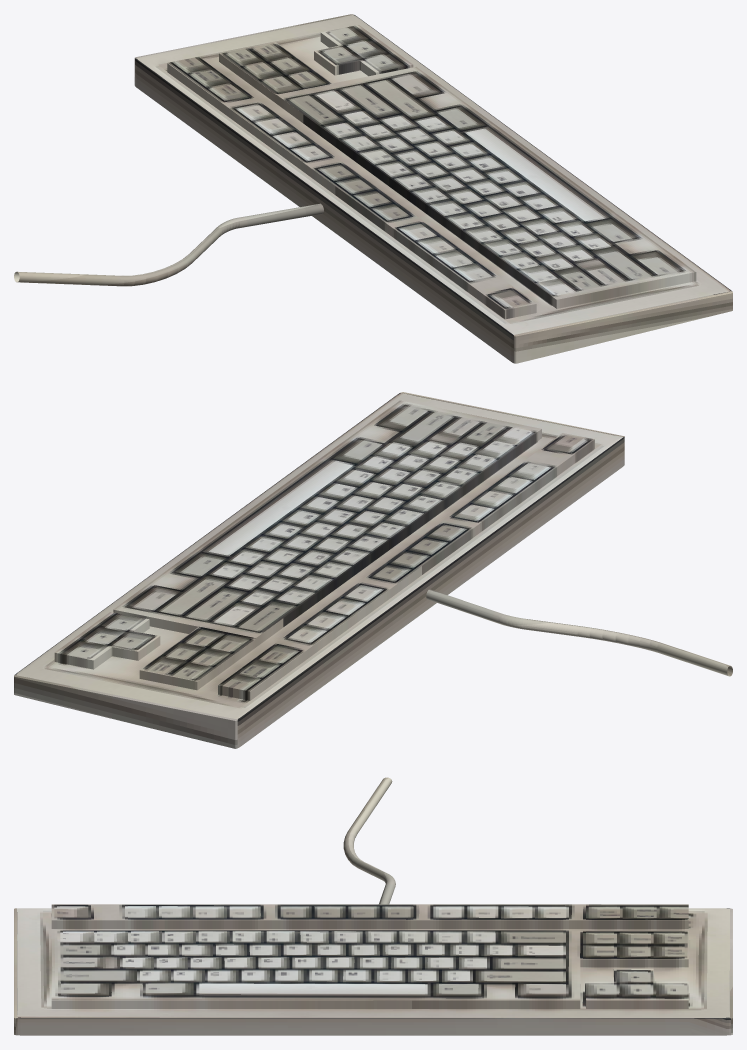
File: ps1-style-old-keyboard.glb
3 renders of one model, top to bottom at view 1: azimuth 30°, elevation 25°; view 2: azimuth 150°, elevation 25°; view 3: azimuth 270°, elevation 25°, orthographic. The views are drawn at different scales.
Visible parts, largest first — view 1: Cube; view 2: Cube; view 3: Cube.
Boxes of the visible parts, left/top/right/bottom form: Cube: left=14, top=14, right=732, bottom=363; Cube: left=14, top=392, right=732, bottom=748; Cube: left=14, top=777, right=732, bottom=1035.
Size of the model in its own units: 4.73 by 0.3434 by 6.
1 material, 1 textured.
